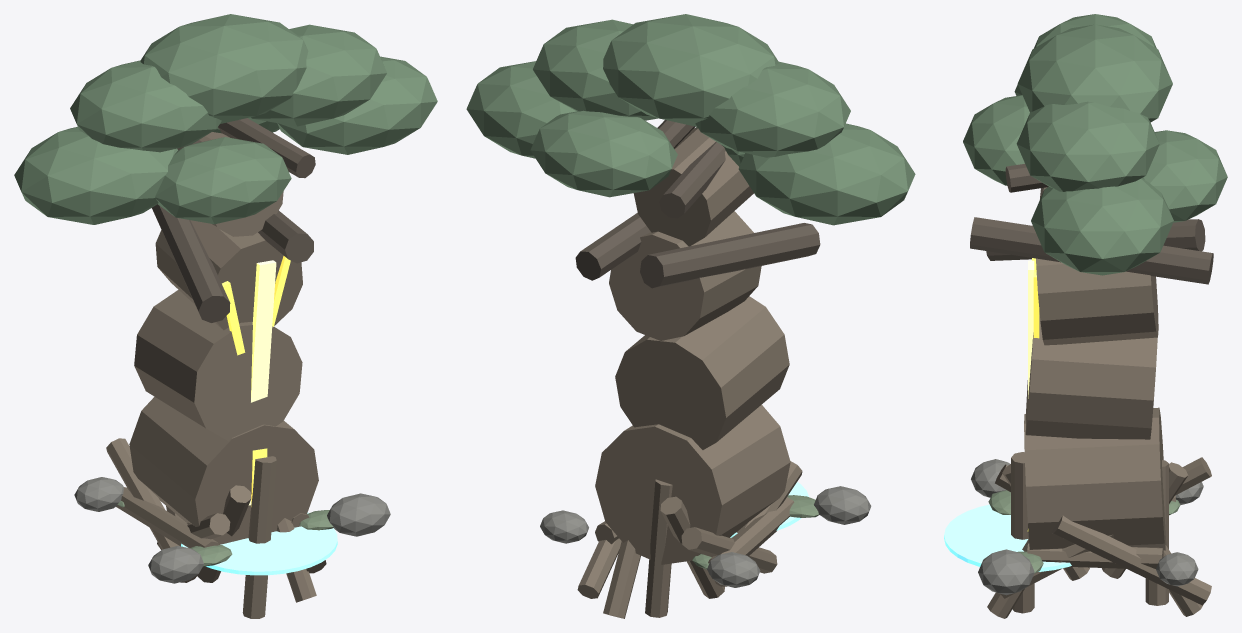
File: Midgard_Hoddmimir_Holt_V1_YUP.glb
The picture shows the model from 3 angles, left to right: view 1: azimuth 30°, elevation 25°; view 2: azimuth 150°, elevation 25°; view 3: azimuth 270°, elevation 25°; orthographic projection. The views are drawn at different scales.
Parts seen in each view (by area): view 1: Hodd_Trunk_1, Hodd_Trunk_0, Hodd_Crown_2, Hodd_Crown_0, Hodd_Crown_1, Hodd_Crown_5, Hodd_Crown_3, Hodd_Crown_4, Hodd_Trunk_2, Hodd_Sacred_Pool, Hodd_Branch_0, Hodd_Root_3 (+14 smaller); view 2: Hodd_Trunk_0, Hodd_Trunk_1, Hodd_Crown_2, Hodd_Crown_0, Hodd_Crown_1, Hodd_Crown_6, Hodd_Trunk_2, Hodd_Crown_3, Hodd_Branch_0, Hodd_Crown_4, Hodd_Trunk_3, Hodd_Branch_1 (+11 smaller); view 3: Hodd_Trunk_0, Hodd_Trunk_1, Hodd_Crown_2, Hodd_Crown_4, Hodd_Crown_3, Hodd_Trunk_2, Hodd_Crown_6, Hodd_Branch_1, Hodd_Crown_5, Hodd_Sacred_Pool, Hodd_Root_11, Hodd_Rock_1 (+16 smaller).
Boxes of the visible parts, box(x1,y1,x2,y2) form: Hodd_Trunk_1: box(134, 290, 302, 441); Hodd_Trunk_0: box(129, 396, 318, 544); Hodd_Crown_2: box(140, 14, 308, 123); Hodd_Crown_0: box(14, 126, 177, 224); Hodd_Crown_1: box(70, 60, 221, 152); Hodd_Crown_5: box(155, 137, 291, 224); Hodd_Crown_3: box(250, 24, 386, 126); Hodd_Crown_4: box(277, 56, 437, 154); Hodd_Trunk_2: box(155, 220, 302, 330); Hodd_Sacred_Pool: box(181, 512, 337, 575); Hodd_Branch_0: box(152, 204, 230, 322); Hodd_Root_3: box(242, 456, 276, 618); Hodd_Trunk_0: box(595, 404, 790, 564); Hodd_Trunk_1: box(615, 296, 789, 449); Hodd_Crown_2: box(603, 14, 778, 126); Hodd_Crown_0: box(738, 123, 915, 225); Hodd_Crown_1: box(695, 61, 850, 157); Hodd_Crown_6: box(530, 110, 677, 197); Hodd_Trunk_2: box(609, 211, 761, 340); Hodd_Crown_3: box(533, 19, 657, 120); Hodd_Branch_0: box(640, 223, 820, 288); Hodd_Crown_4: box(466, 61, 576, 158); Hodd_Trunk_3: box(633, 127, 753, 246); Hodd_Branch_1: box(575, 213, 650, 280); Hodd_Trunk_0: box(1024, 407, 1166, 550); Hodd_Trunk_1: box(1025, 311, 1157, 439); Hodd_Crown_2: box(1017, 24, 1172, 122); Hodd_Crown_4: box(1031, 178, 1173, 275); Hodd_Crown_3: box(1016, 101, 1159, 191); Hodd_Trunk_2: box(1036, 258, 1158, 345); Hodd_Crown_6: box(1142, 130, 1227, 222); Hodd_Branch_1: box(970, 217, 1213, 284); Hodd_Crown_5: box(963, 95, 1029, 185); Hodd_Sacred_Pool: box(944, 504, 1071, 571); Hodd_Root_11: box(1051, 515, 1211, 605); Hodd_Rock_1: box(978, 549, 1034, 595).
Size of the model in its own units: 13.75 by 17.73 by 7.97.
